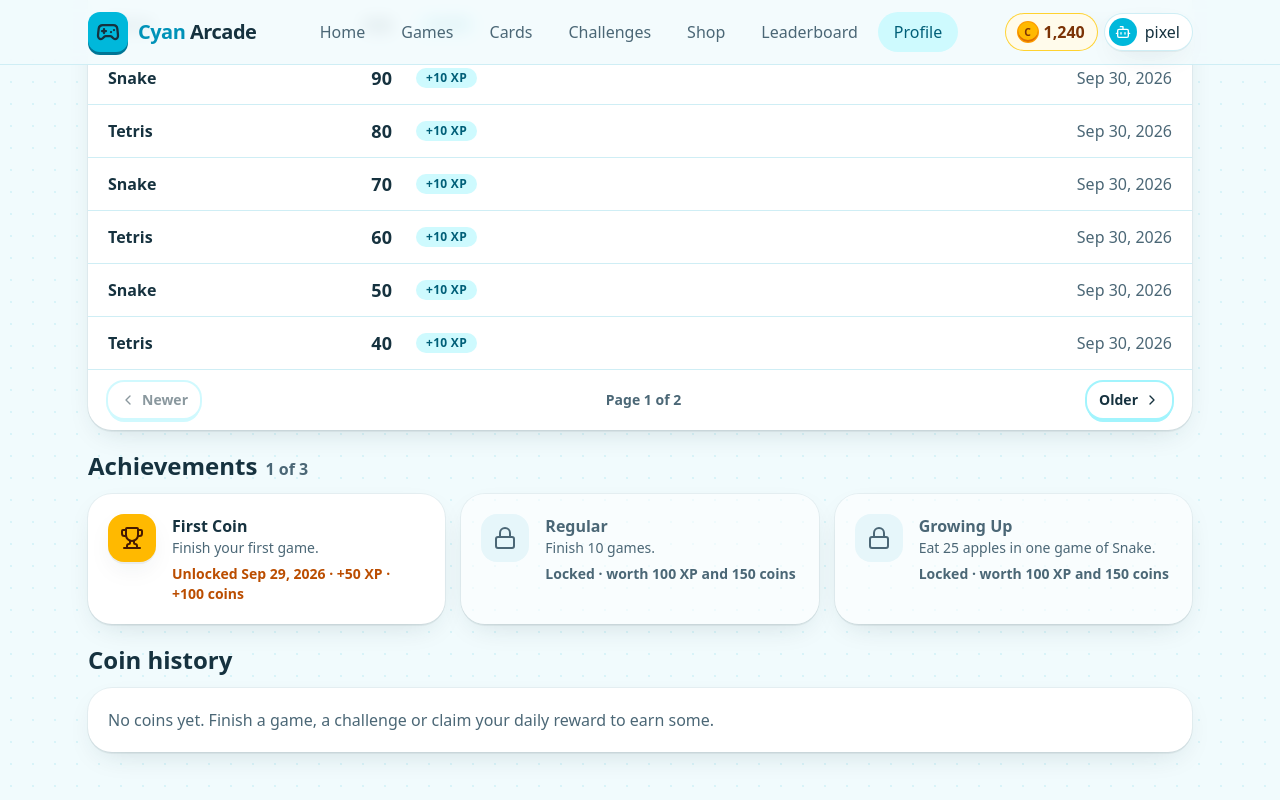
Scenario: profile page when signed in › pages through older games
The image size is (1280, 800).
(page scrolled)
Expected: the text "Page 1 of 2" is shown, x1=606 y1=390 x2=681 y2=410
Expected: the button "Newer" is disabled, x1=108 y1=382 x2=200 y2=418
Click the button "Older" at (1130, 400), box x1=1087 y1=382 x2=1172 y2=418
(page scrolled)
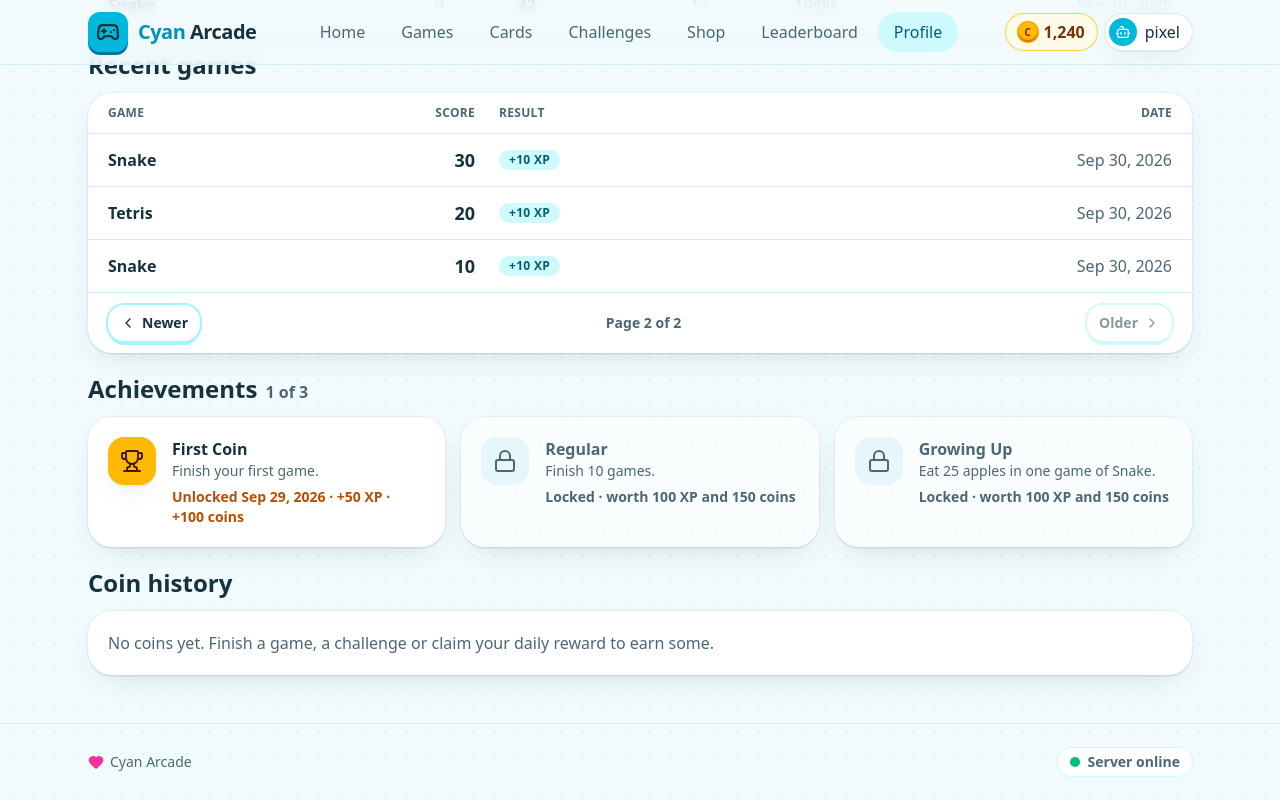
Expected: the text "30" is shown, x1=333 y1=134 x2=475 y2=186
Now the text "Page 2 of 2" is shown, box x1=606 y1=313 x2=681 y2=333
Now the button "Older" is disabled, box x1=1087 y1=305 x2=1172 y2=341
